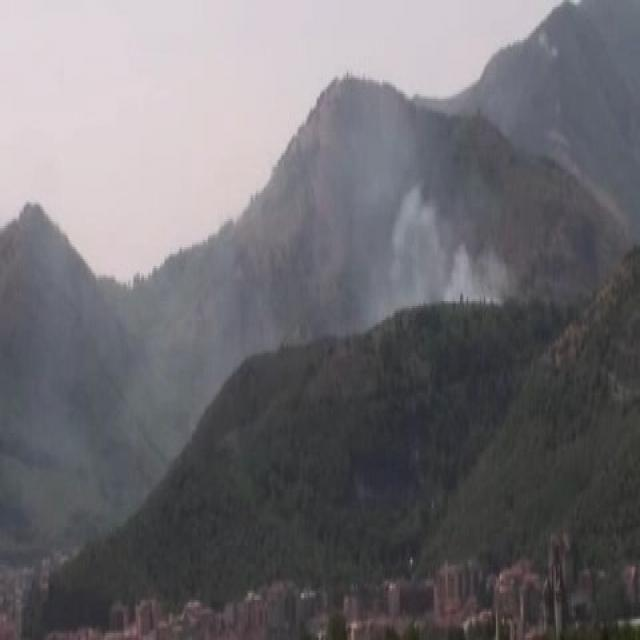smoke: (306, 114, 514, 299)
